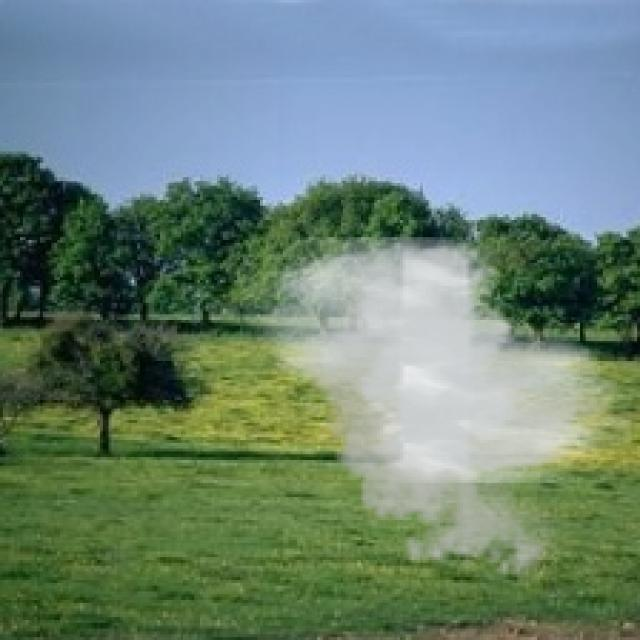Smoke: (239, 237, 632, 586)
